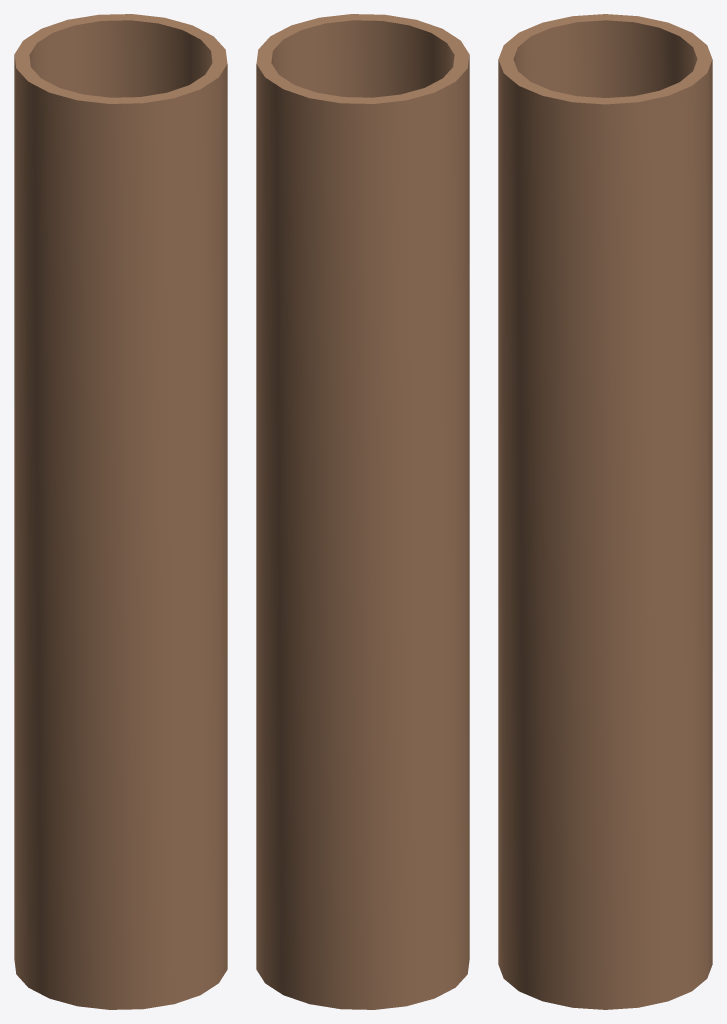
The model's file is scavengers-loot-library-cardboard-tube-ac0a0cdb__2664.glb.
The picture shows the model from 3 angles, left to right: view 1: azimuth 30°, elevation 25°; view 2: azimuth 150°, elevation 25°; view 3: azimuth 270°, elevation 25°; orthographic projection.
Visible parts, largest first — view 1: cardboard-tube; view 2: cardboard-tube; view 3: cardboard-tube.
Boxes of the visible parts, x1=… form: cardboard-tube: x1=14, y1=14, x2=227, y2=1009; cardboard-tube: x1=256, y1=14, x2=469, y2=1009; cardboard-tube: x1=498, y1=14, x2=712, y2=1009.
Size of the model in its own units: 0.09 by 0.42 by 0.09.
